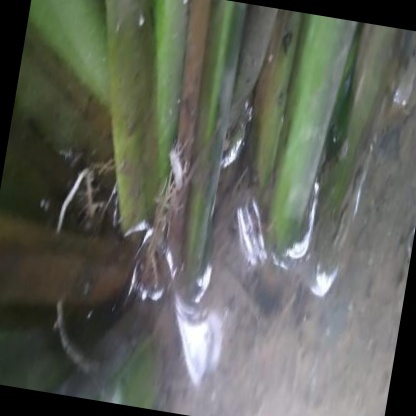Brown_hopper: (154, 128, 193, 215)
